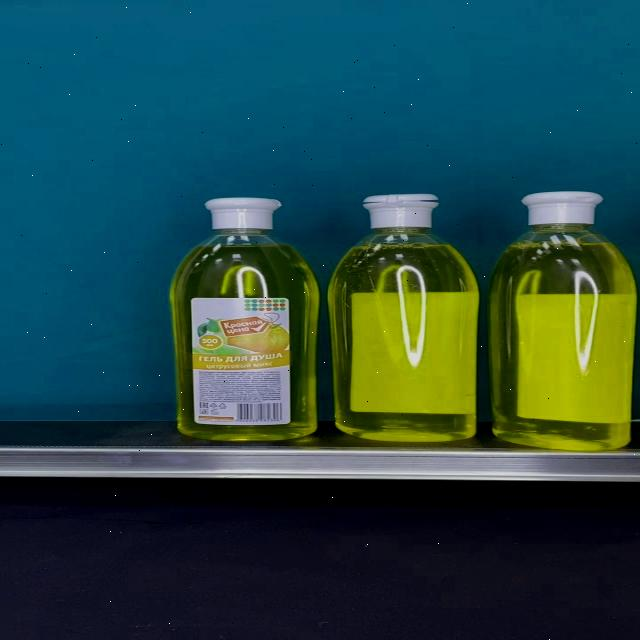Bottle: (487, 192, 637, 450), (328, 193, 478, 442), (172, 198, 320, 441)
Cap: (520, 192, 602, 227), (206, 198, 284, 232), (362, 193, 438, 227)
